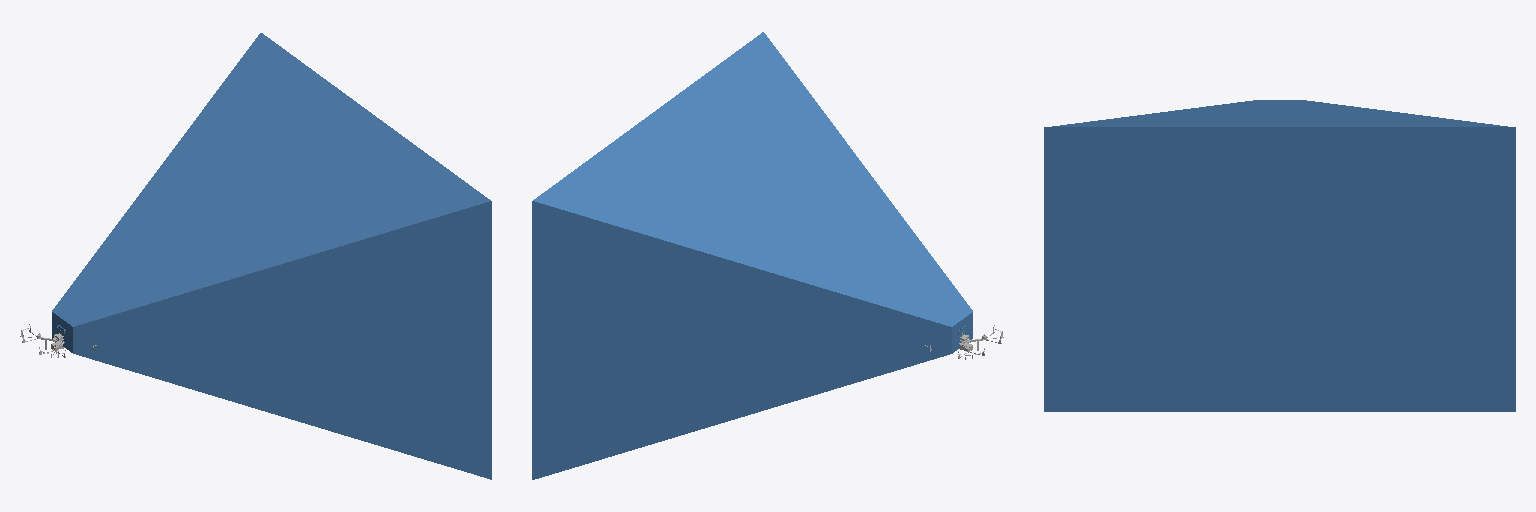
robot.urdf — uav300_head:
<?xml version="1.0" encoding="utf-8"?>
<!-- This URDF was automatically created by SolidWorks to URDF Exporter! Originally created by [author] ([email redacted]) 
     Commit Version: 1.5.0-0-g9aa0fdb  Build Version: 1.5.7004.21443
     For more information, please see http://wiki.ros.org/sw_urdf_exporter -->
<robot
  name="uav300_head">
  <link
    name="world">
  </link>
  <link
    name="uav_link">
    <inertial>
      <origin
        xyz="0.014599427663741 0.0724676211418231 0.550589552982637"
        rpy="0 0 0" />
      <mass
        value="0.399880166519623" />
      <inertia
        ixx="0.00190812327495004"
        ixy="2.49466975116951E-05"
        ixz="2.77670680958346E-07"
        iyy="0.00323868605686356"
        iyz="-3.88185570049305E-06"
        izz="0.00219861258298517" />
    </inertial>
    <visual>
      <origin
        xyz="-0.03 0.01 0.16"
        rpy="0 0 0" />
      <geometry>
        <mesh
          filename="package://uav300_head/meshes/uav_base.STL" 
          scale="1.33 1.33 1.33"/>
      </geometry>
      <material
        name="">
        <color
          rgba="0.76 0.75 0.75 1" />
      </material>
    </visual>
    <collision>
      <origin
        xyz="0 0 0"
        rpy="0 0 0" />
      <geometry>
        <mesh
          filename="package://uav300_head/meshes/uav_base.STL"
          scale="1.33 1.33 1.33" />
      </geometry>
    </collision>
  </link>
  <joint
    name="uav_joint"
    type="fixed">
    <origin
      xyz="0 0 0"
      rpy="0 0 0" />
    <parent
      link="world" />
    <child
      link="uav_link" />
    <axis
      xyz="0 0 0" />
    <safety_controller
      k_velocity="0" />
  </joint>
  <link
    name="head_link">
    <inertial>
      <origin
        xyz="0.00033386993075224 0.0766238028035832 0.00364568473062213"
        rpy="0 0 0" />
      <mass
        value="0.399880166519623" />
      <inertia
        ixx="0.00219861258298517"
        ixy="3.88185570049305E-06"
        ixz="2.77670680958347E-07"
        iyy="0.00323868605686356"
        iyz="-2.49466975116949E-05"
        izz="0.00190812327495004" />
    </inertial>
    <visual>
      <origin
        xyz="0 0 0.144"
        rpy="0 0 0" />
      <geometry>
        <mesh
          filename="package://uav300_head/meshes/head_Link.STL" 
          scale="1.5 1.5 1.5"/>
      </geometry>
      <material
        name="">
        <color
          rgba="0.352941176470588 0.552941176470588 0.752941176470588 1" />
      </material>
    </visual>
    <collision>
      <origin
        xyz="0 0 0"
        rpy="0 0 0" />
      <geometry>
        <mesh
          filename="package://uav300_head/meshes/head_Link.STL" 
          scale="1.5 1.5 1.5"/>
      </geometry>
    </collision>
  </link>
  <joint
    name="head_joint"
    type="fixed">
    <origin
      xyz="0 0 0"
      rpy="0 0 0" />
    <parent
      link="uav_link" />
    <child
      link="head_link" />
    <axis
      xyz="0 0 1" />
    <safety_controller
      k_velocity="0" />
  </joint>
  <link
    name="view_link">
    <inertial>
      <origin
        xyz="0.00033386993075224 0.0766238028035832 0.00364568473062213"
        rpy="0 0 0" />
      <mass
        value="0.399880166519623" />
      <inertia
        ixx="0.00219861258298517"
        ixy="3.88185570049305E-06"
        ixz="2.77670680958347E-07"
        iyy="0.00323868605686356"
        iyz="-2.49466975116949E-05"
        izz="0.00190812327495004" />
    </inertial>
    <visual>
      <origin
        xyz="0 0 0.144"
        rpy="0 0 0" />
      <geometry>
        <mesh
          filename="package://uav300_head/meshes/view_field.stl" 
          scale="1 1 1"/>
      </geometry>
      <material
        name="">
        <color
          rgba="0.352941176470588 0.552941176470588 0.752941176470588 0.3" />
      </material>
    </visual>
    <collision>
      <origin
        xyz="0 0 0"
        rpy="0 0 0" />
      <geometry>
        <mesh
          filename="package://uav300_head/meshes/view_field.stl" 
          scale="1 1 1"/>
      </geometry>
    </collision>
  </link>
  <joint
    name="view_joint"
    type="fixed">
    <origin
      xyz="0 0 0"
      rpy="0 0 0" />
    <parent
      link="head_link" />
    <child
      link="view_link" />
    <axis
      xyz="0 0 1" />
    <safety_controller
      k_velocity="0" />
  </joint>
</robot>

--- What the picture shows (computed from the rendered views, not written in the file) ---
Views: 3 orthographic renders of the robot side by side, from view 1: azimuth 30°, elevation 25°; view 2: azimuth 150°, elevation 25°; view 3: azimuth 270°, elevation 25°.
Model uav300_head with 4 links and 3 joints (3 fixed), rooted at world, posed every joint at zero.
Links seen in each view (by area): view 1: view_link; view 2: view_link; view 3: view_link.
Boxes of the visible links, box(x1,y1,x2,y2) form: view_link: box(52, 33, 491, 479); view_link: box(532, 32, 972, 479); view_link: box(1044, 100, 1515, 411).
Bounding box of the posed robot: 3.41 × 3.95 × 2.63 m (x, y, z).
3 mesh visuals loaded from 3 distinct referenced files (3 binary STL).